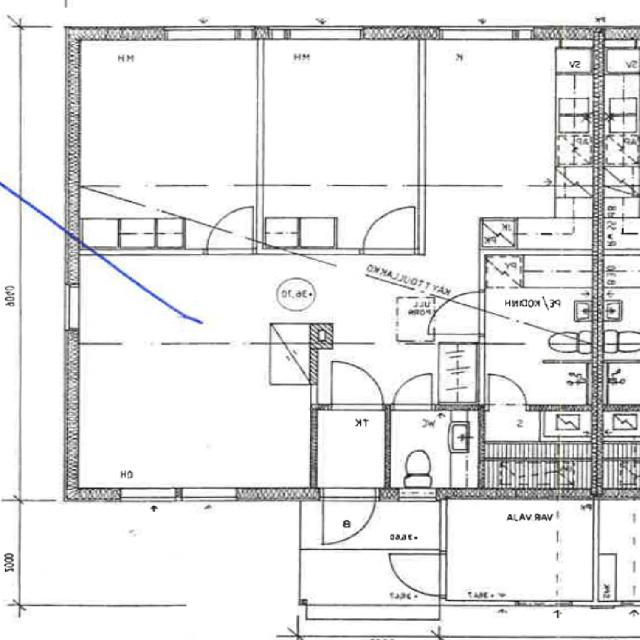door: (322, 488, 376, 546), (363, 203, 415, 255), (332, 360, 383, 411), (391, 554, 447, 596), (430, 292, 485, 334), (208, 209, 253, 255), (394, 371, 433, 411), (488, 372, 526, 411)
